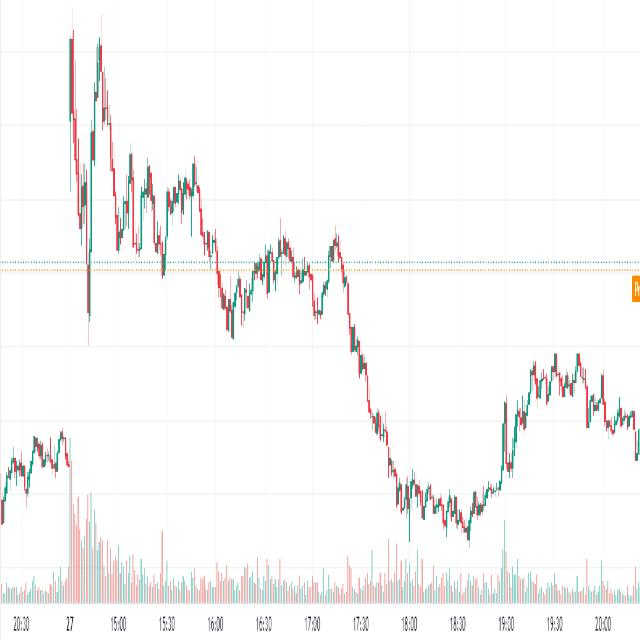Descending-Triangle: (78, 0, 203, 269)
Rounding-Bottom: (352, 349, 534, 547)
